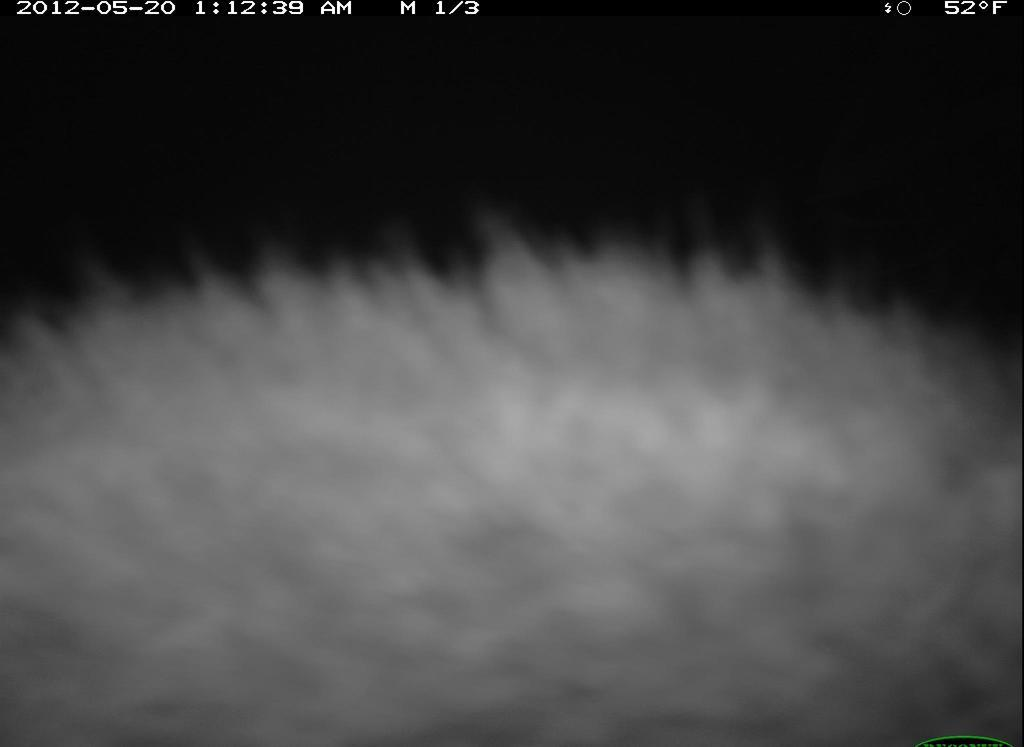raccoon: (2, 208, 1022, 747)
